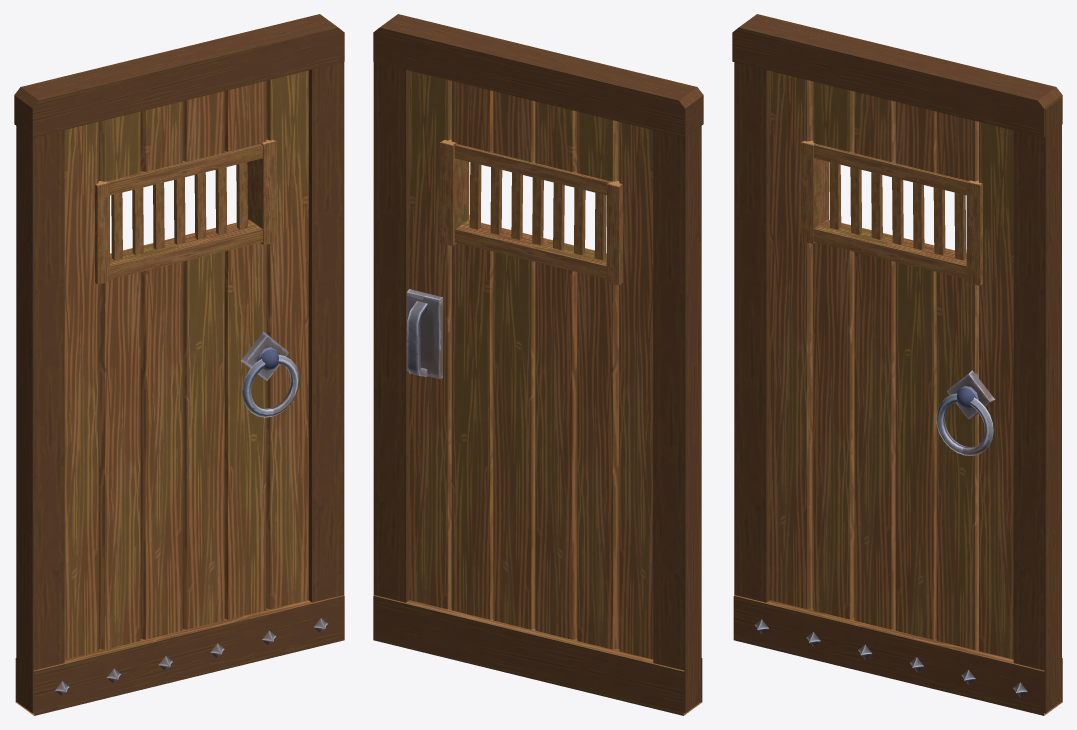
The model's file is Door_8_Flat.glb.
3 views of the same model, side by side, from view 1: azimuth 30°, elevation 25°; view 2: azimuth 150°, elevation 25°; view 3: azimuth 330°, elevation 25° (orthographic).
Parts seen in each view (by area): view 1: Door_8_Flat; view 2: Door_8_Flat; view 3: Door_8_Flat.
Part boxes in pixels (box(x1,y1,x2,y2)): Door_8_Flat: box(14, 14, 344, 715); Door_8_Flat: box(373, 14, 703, 715); Door_8_Flat: box(732, 14, 1062, 715).
Size of the model in its own units: 1.12 by 2.1 by 0.1994.
Materials: 2 (2 with a texture image).
